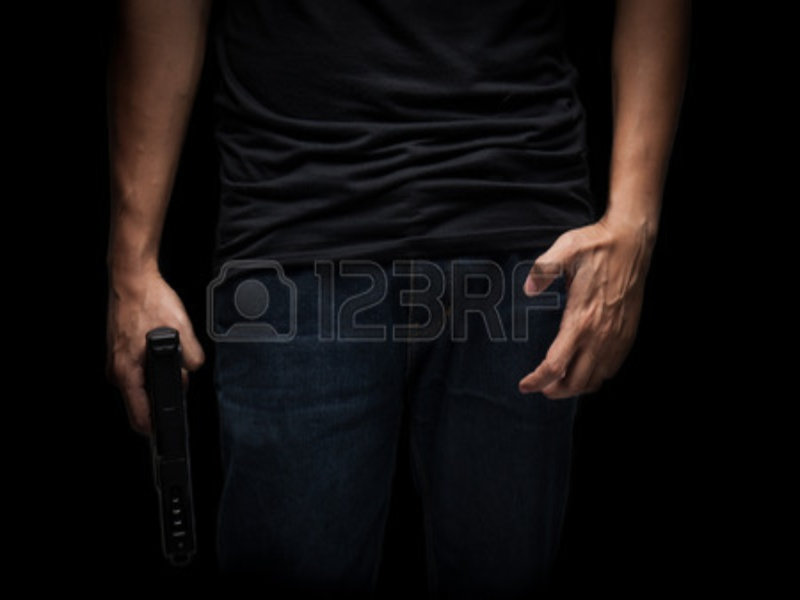gun: (86, 320, 223, 559)
